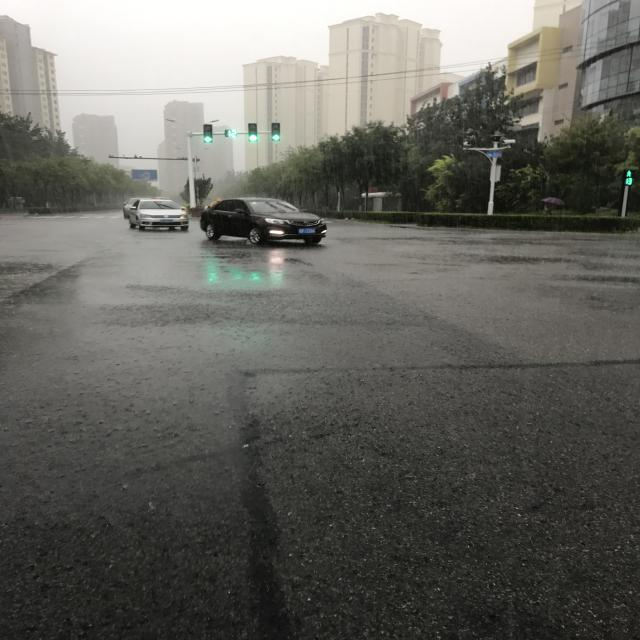car: (194, 308, 246, 443), (197, 450, 229, 522)
